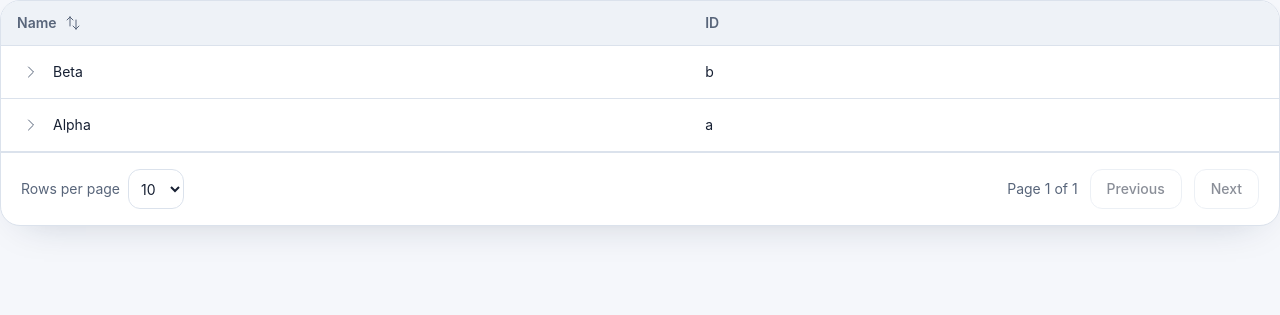
Scenario: DataTable expansion › ignores an older rejection after a newer success
This screenshot has width=1280, height=315.
Click the button named "Expand row" next to "Beta": [31, 72] box [17,58,45,86]
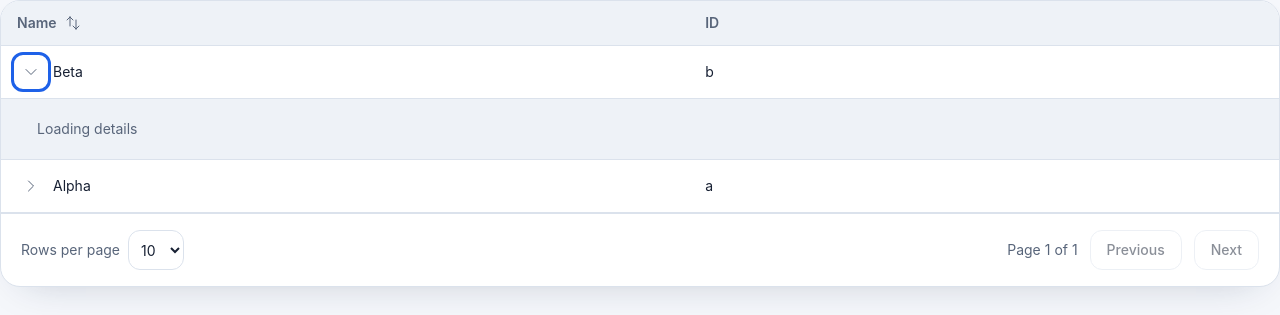
Click the button named "Collapse row": [31, 72] box [17,58,45,86]
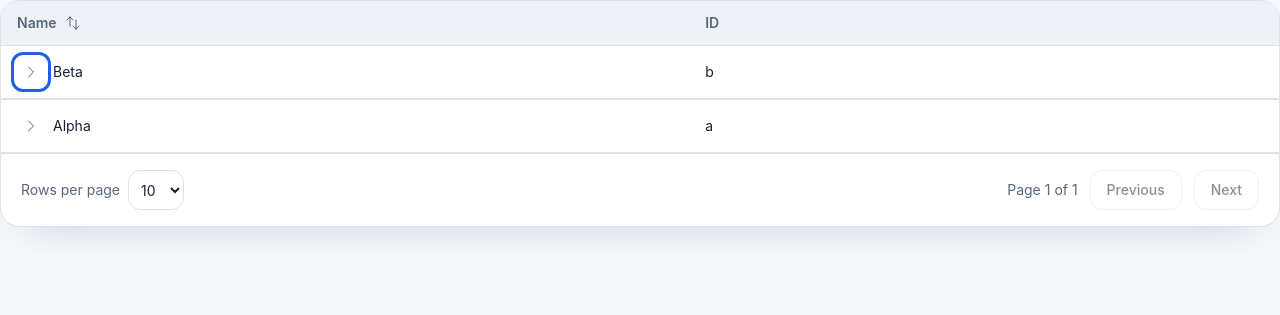
Click the button named "Expand row" next to "Beta": [31, 72] box [17,58,45,86]
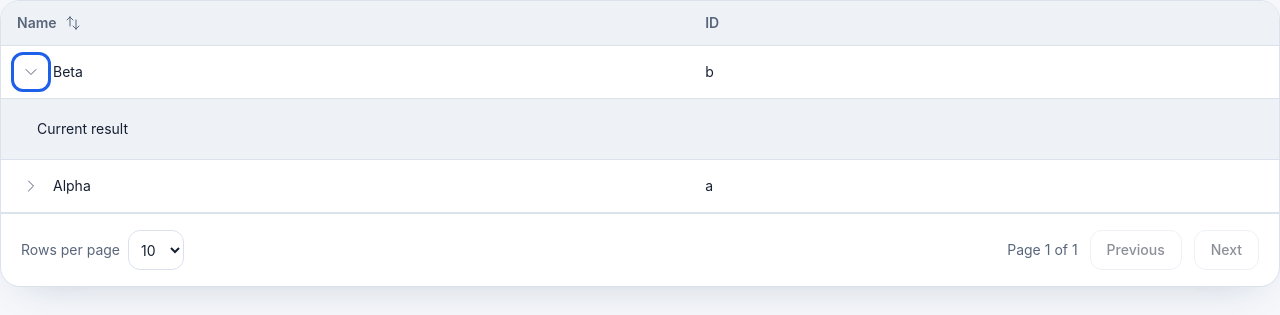
Expected: the message "Loading details" is not shown
Expected: the text "Current result" is shown, [37,120,128,137]
